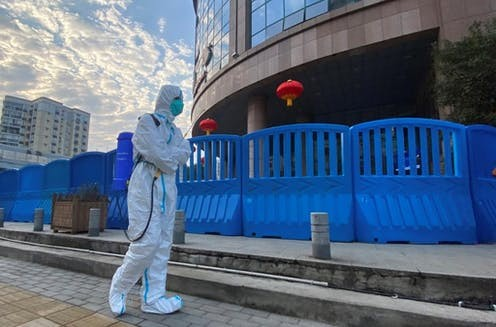Coverall: (108, 83, 182, 314)
with_mask: (170, 95, 183, 117)
